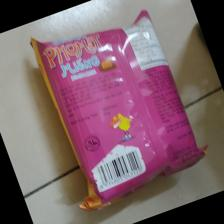Oishi_phomat: (30, 8, 210, 216)
